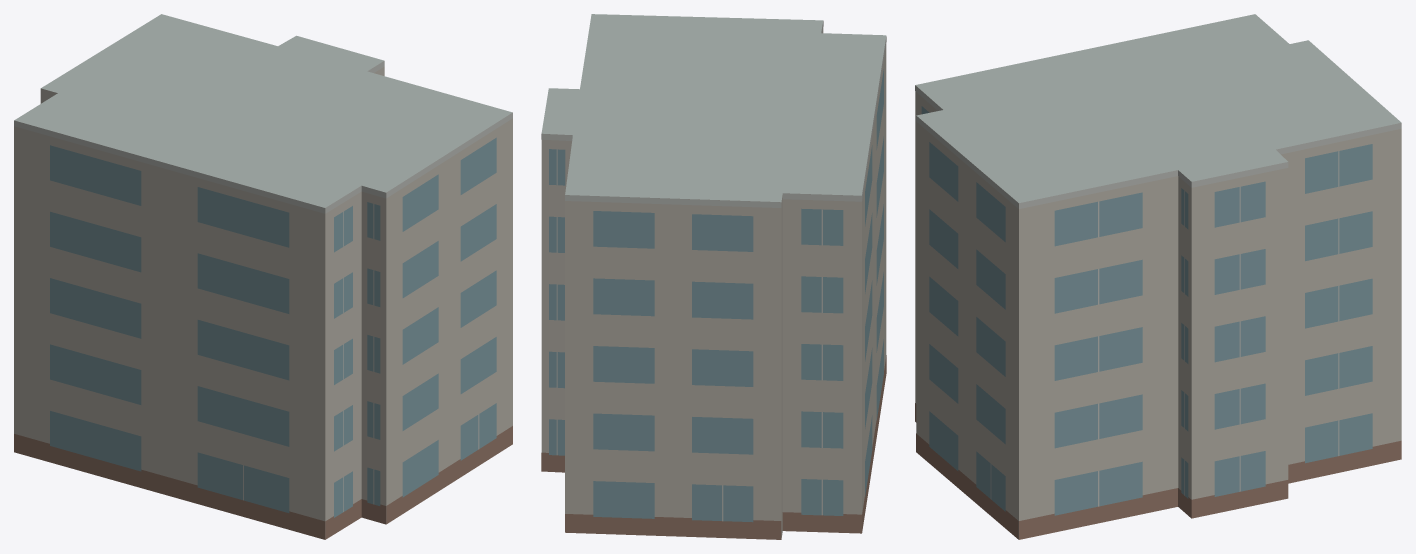
The model's file is survey-upis-32701411.glb.
3 renders of one model, left to right at view 1: azimuth 30°, elevation 25°; view 2: azimuth 150°, elevation 25°; view 3: azimuth 270°, elevation 25°, orthographic.
Visible parts, largest first — view 1: survey-upis-32701411.tmp; view 2: survey-upis-32701411.tmp; view 3: survey-upis-32701411.tmp.
Part boxes in pixels (left/top/right/bottom): survey-upis-32701411.tmp: left=14, top=14, right=512, bottom=539; survey-upis-32701411.tmp: left=541, top=14, right=886, bottom=539; survey-upis-32701411.tmp: left=915, top=14, right=1401, bottom=539.
Size of the model in its own units: 16.64 by 13.8 by 18.08.
